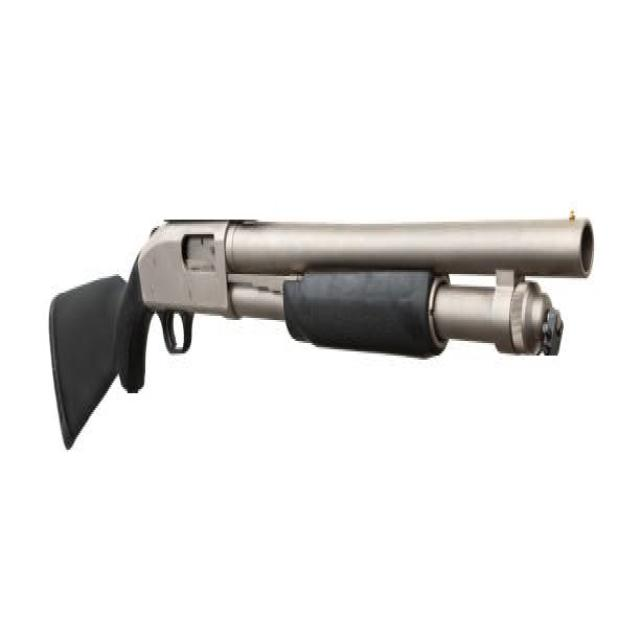rifle: (41, 175, 600, 463)
